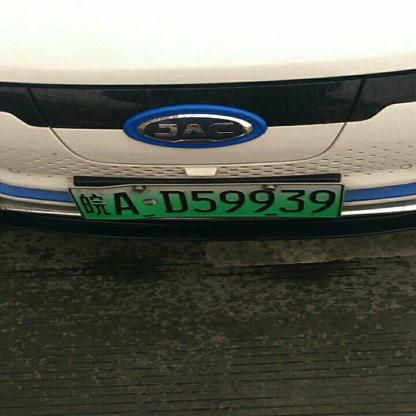lp: (68, 185, 342, 219)
